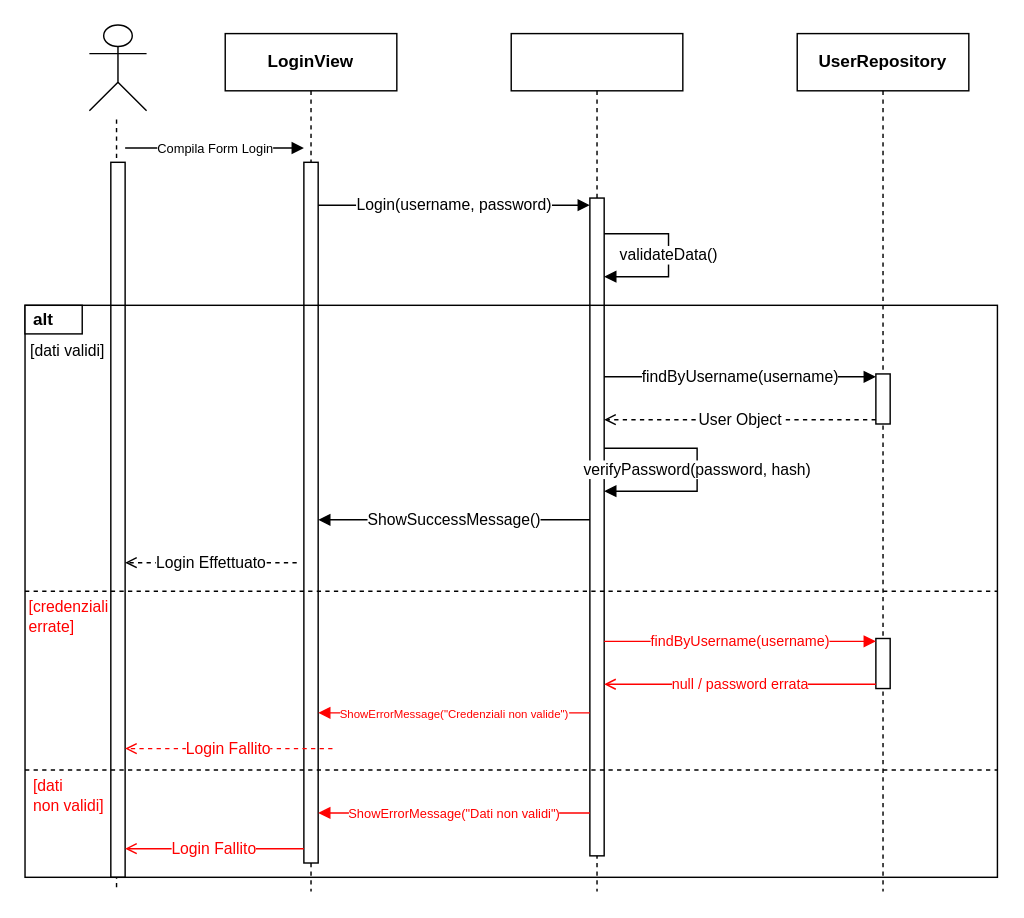
Image size: 1024x918. Some labels were removed from this diagram. Here are the shapes that lost their labels. From the top down, the centre of each, then its label:
At point 117,67: "Visitatore".
At point 596,462: "LoginPresenter".
